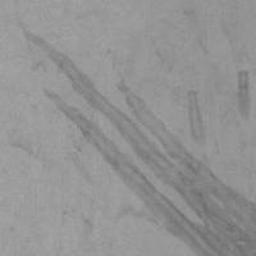Water spot: (24, 29, 256, 256), (186, 88, 207, 147), (237, 69, 252, 122)
